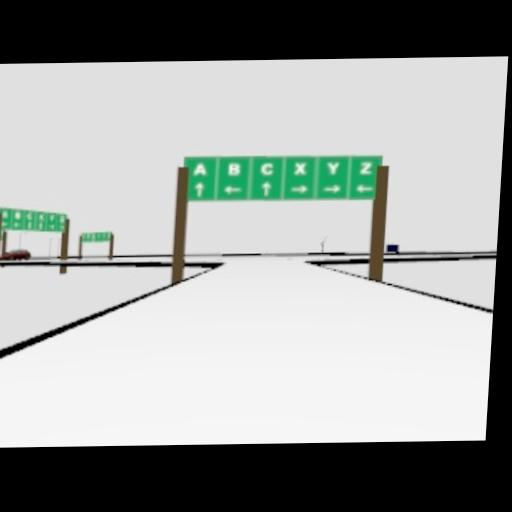A: (193, 162, 206, 175)
B: (226, 162, 239, 175), (14, 211, 21, 219)
C: (259, 161, 273, 175)
Left: (222, 185, 243, 194), (356, 183, 373, 192)
Right: (290, 184, 307, 193), (322, 184, 341, 192)
Straight: (194, 182, 203, 195), (261, 181, 270, 194)
X: (293, 162, 307, 175)
Y: (326, 162, 339, 174)
Z: (359, 161, 373, 174), (57, 212, 66, 231), (29, 212, 41, 225), (37, 213, 45, 230), (39, 210, 49, 220), (34, 208, 45, 216), (1, 209, 8, 219), (47, 213, 55, 221), (59, 213, 67, 221), (25, 220, 32, 228), (25, 211, 31, 219)
